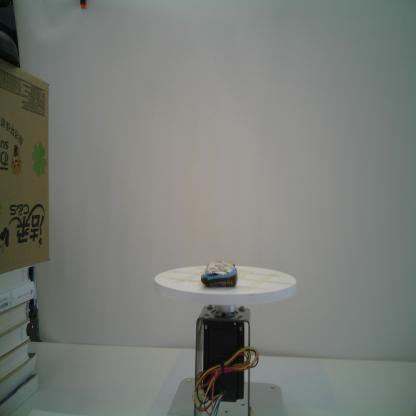Chocolate: (201, 260, 238, 288)
